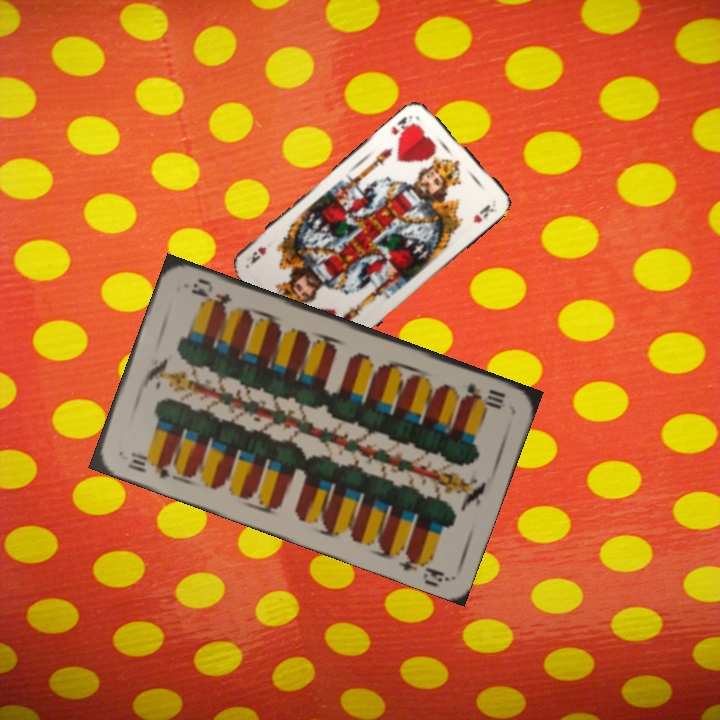E10: (452, 379, 508, 412), (123, 447, 173, 481)
HK: (387, 111, 418, 141)
